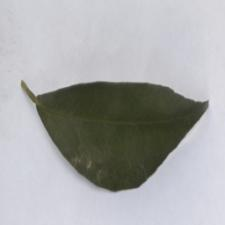Healthy: (52, 64, 182, 192)
